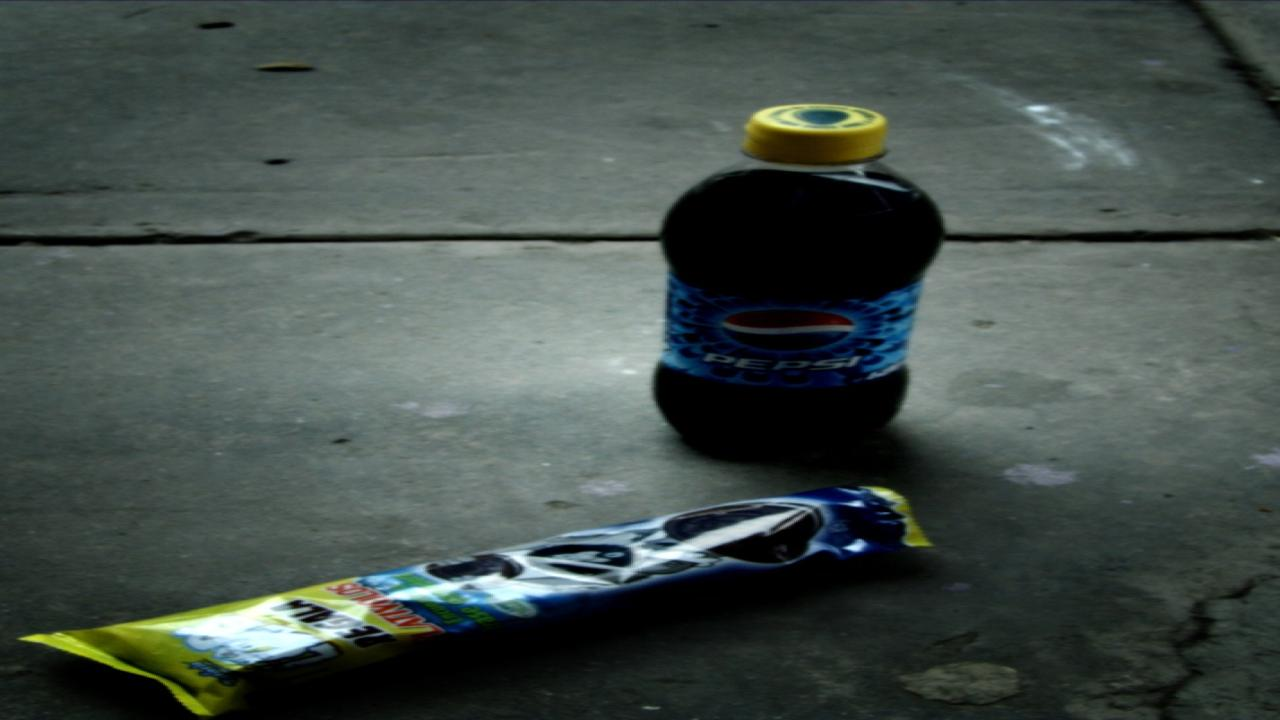bottle_cap: (740, 102, 894, 158)
